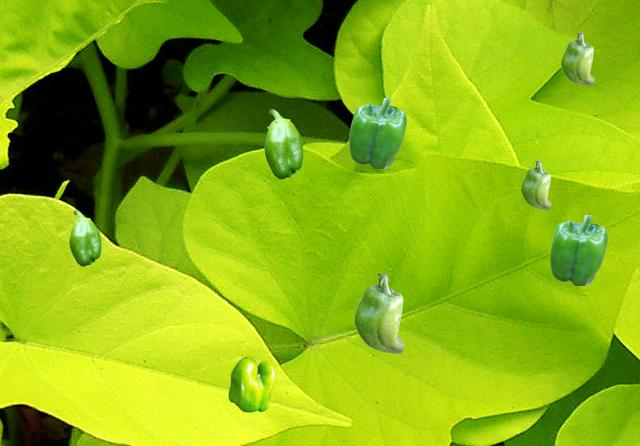bell_pepper: (349, 98, 405, 167), (550, 215, 606, 284), (354, 274, 403, 352), (264, 109, 302, 178), (228, 356, 275, 411), (69, 210, 100, 265), (561, 33, 593, 84), (521, 161, 550, 208)
